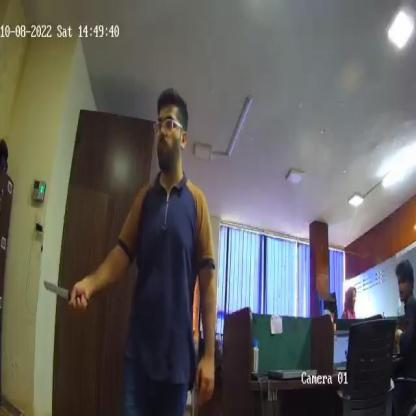Knife: (43, 275, 86, 309)
